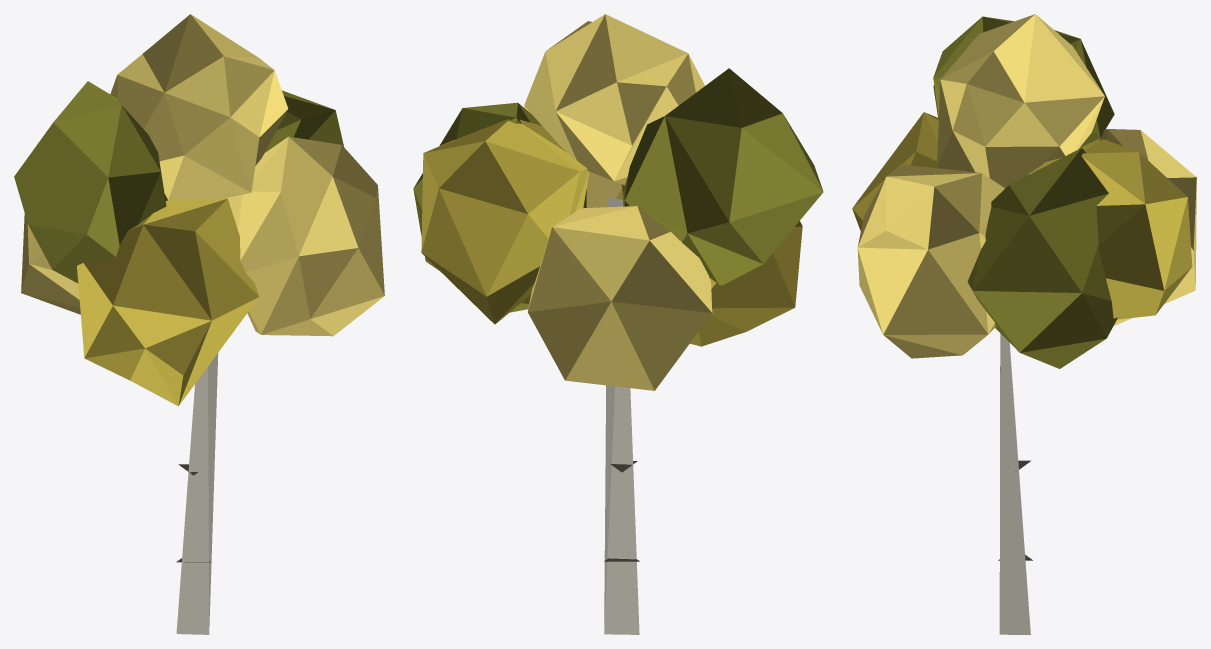
The model's file is tree_birch_4_lod1.glb.
3 views of the same model, side by side, from view 1: azimuth 30°, elevation 25°; view 2: azimuth 150°, elevation 25°; view 3: azimuth 270°, elevation 25° (orthographic). The views are drawn at different scales.
Visible parts, largest first — view 1: tree_birch_4_lod1; view 2: tree_birch_4_lod1; view 3: tree_birch_4_lod1.
Part boxes in pixels (x1,y1,x2,y2): tree_birch_4_lod1: (14,14,384,634); tree_birch_4_lod1: (413,14,823,634); tree_birch_4_lod1: (852,14,1196,634).
Size of the model in its own units: 4.83 by 7.98 by 4.02.
